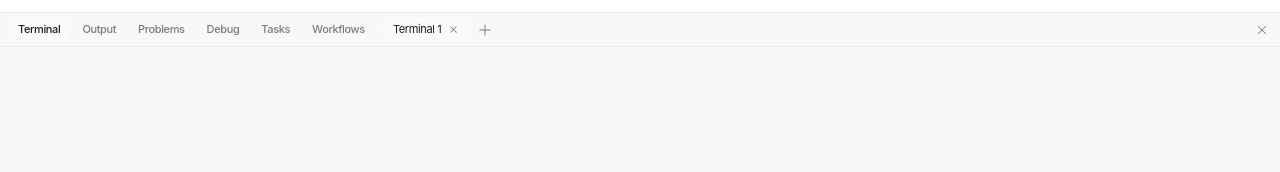
TerminalPanel › 点击新建终端按钮创建新会话
# 点击 "+" 新建按钮
Click the button with class "terminal-panel__new": {"x": 485, "y": 30} [471,16,499,44]
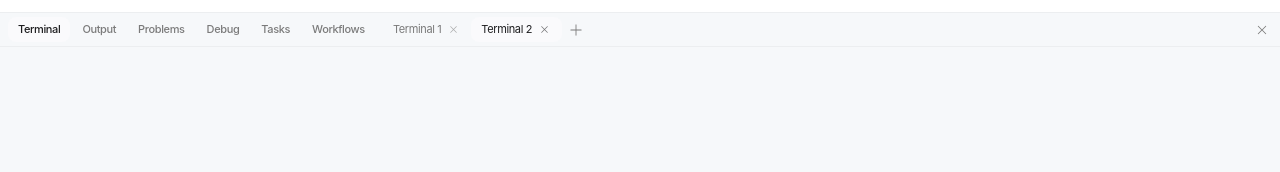
Expected: the number of tabs with class "terminal-panel__tab" is 2, [383,17,471,42]; [471,17,562,42]
